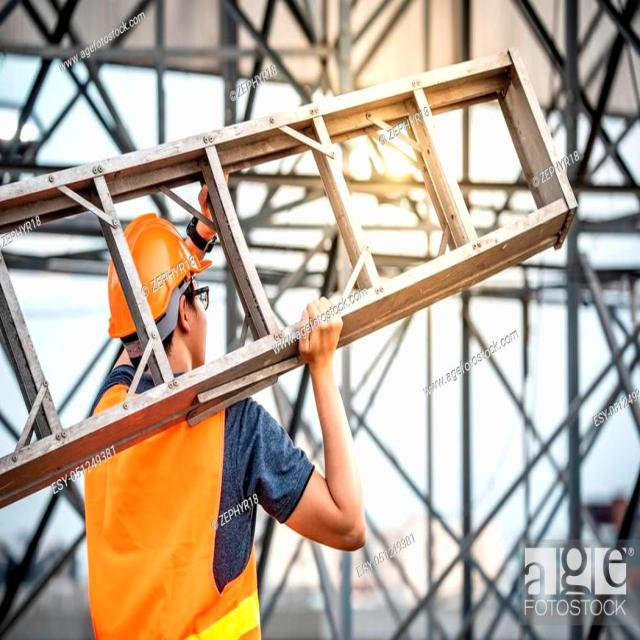helmet: (96, 209, 202, 337)
vest: (81, 377, 268, 640)
